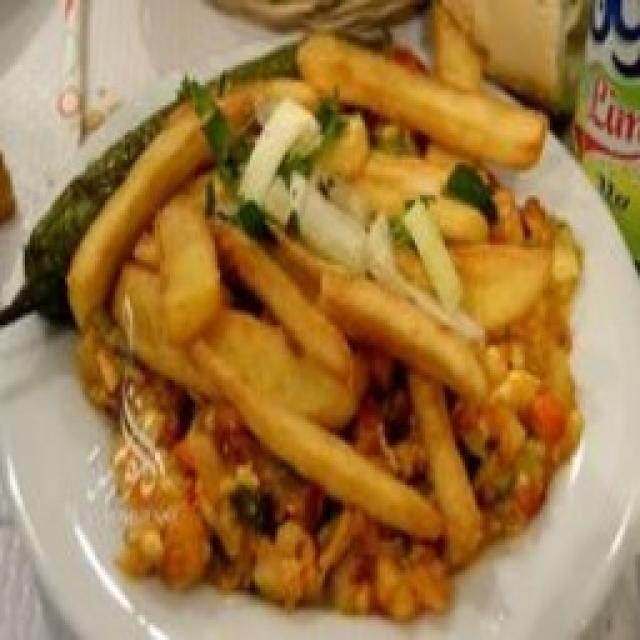Kafteji: (68, 5, 582, 619)
